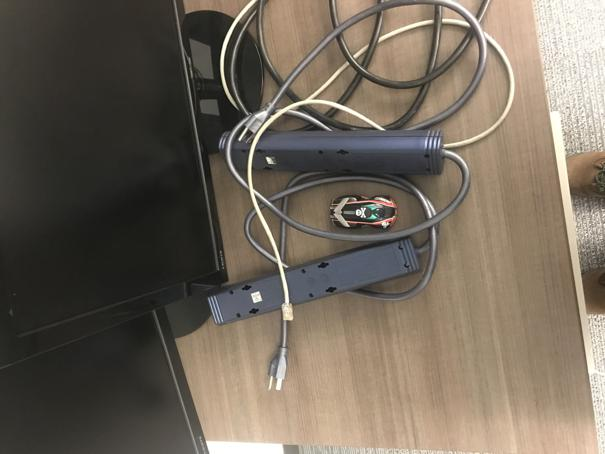Skull: (331, 195, 399, 228)
